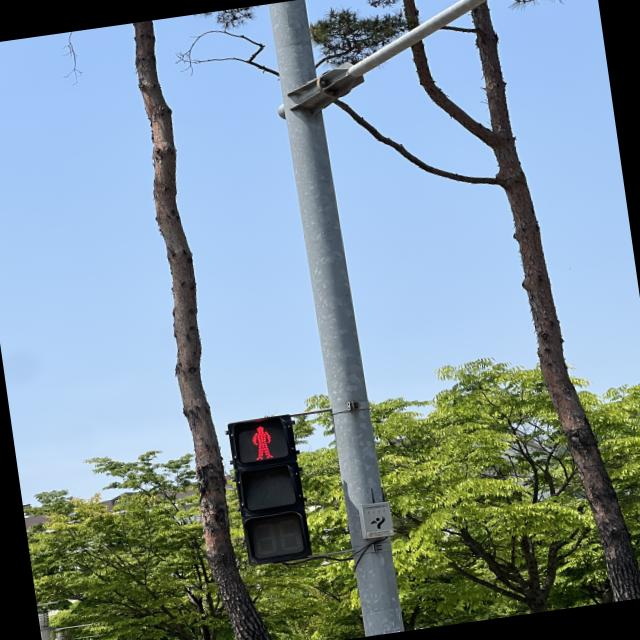red_light: (226, 420, 326, 566)
